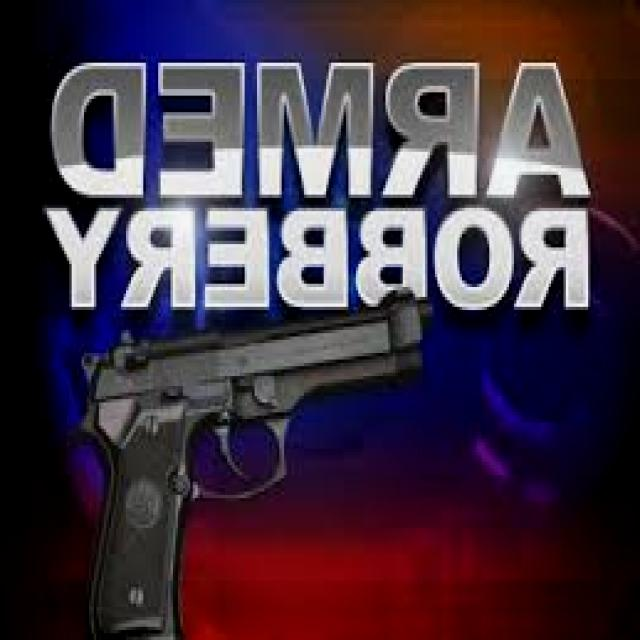pistol: (72, 270, 437, 636)
